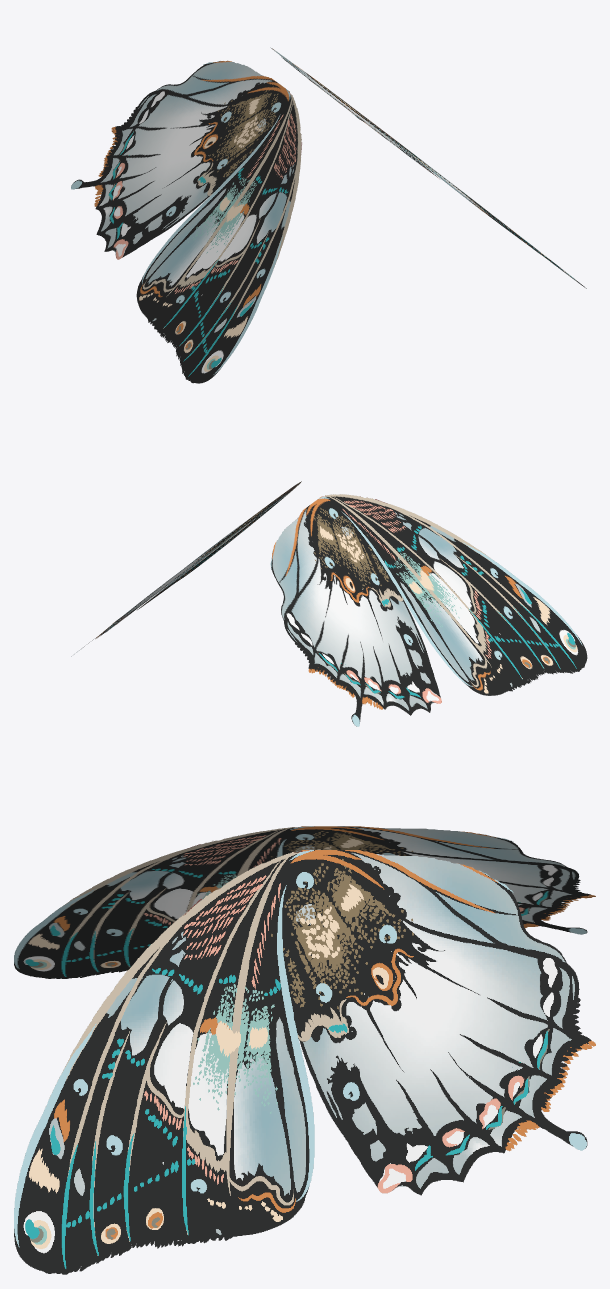
Rendered from wings3.glb.
The picture shows the model from 3 angles, top to bottom: view 1: azimuth 30°, elevation 25°; view 2: azimuth 150°, elevation 25°; view 3: azimuth 270°, elevation 25°; orthographic projection. The views are drawn at different scales.
Parts seen in each view (by area): view 1: image.001; view 2: image.001; view 3: image.001.
Part boxes in pixels (bbox=[...]): image.001: bbox=[71, 47, 586, 383]; image.001: bbox=[71, 481, 587, 726]; image.001: bbox=[14, 826, 595, 1274].
Size of the model in its own units: 1.04 by 0.4725 by 0.8636.
Materials: 1 (1 with a texture image).
